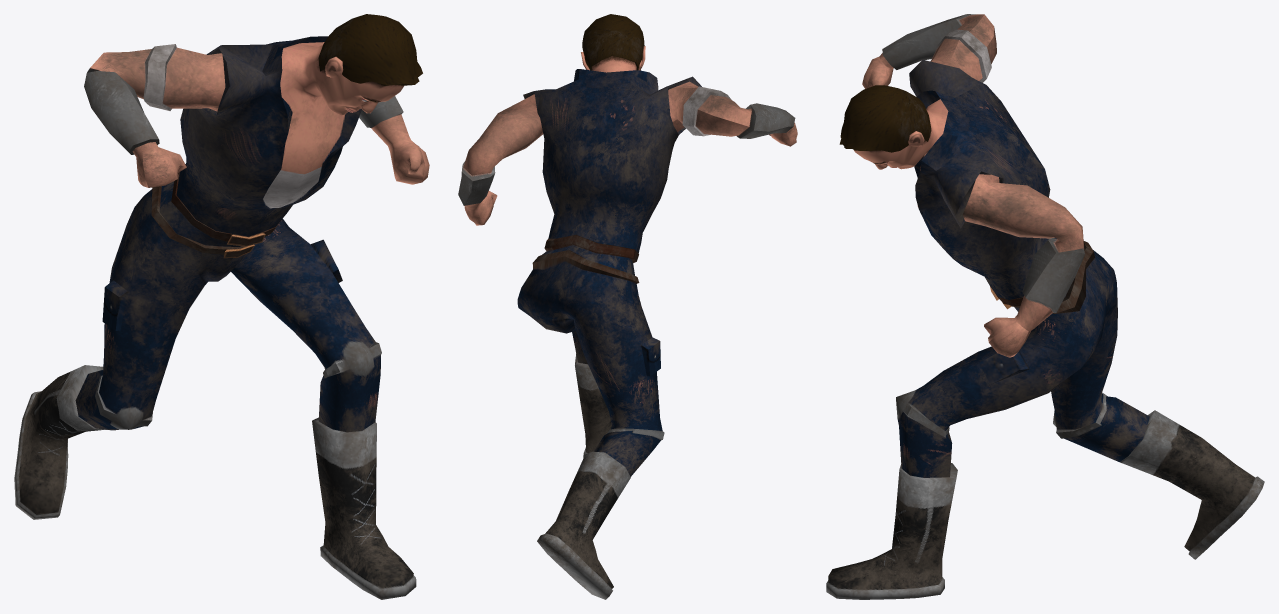
Rendered from Anim_especial_jugador.0027.obj.
The picture shows the model from 3 angles, left to right: view 1: azimuth 30°, elevation 25°; view 2: azimuth 150°, elevation 25°; view 3: azimuth 270°, elevation 25°; orthographic projection. The views are drawn at different scales.
Visible parts, largest first — view 1: polySurface1; view 2: polySurface1; view 3: polySurface1.
Part boxes in pixels (box(x1,y1,x2,y2)): polySurface1: box(14, 14, 429, 599); polySurface1: box(458, 14, 797, 599); polySurface1: box(826, 14, 1264, 599).
Size of the model in its own units: 5.13 by 7.93 by 5.87.
